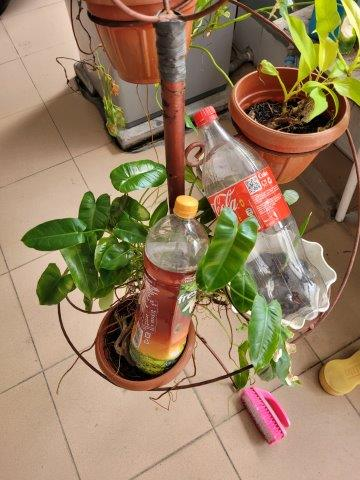botolplastik: (200, 110, 330, 325), (133, 198, 206, 369)
